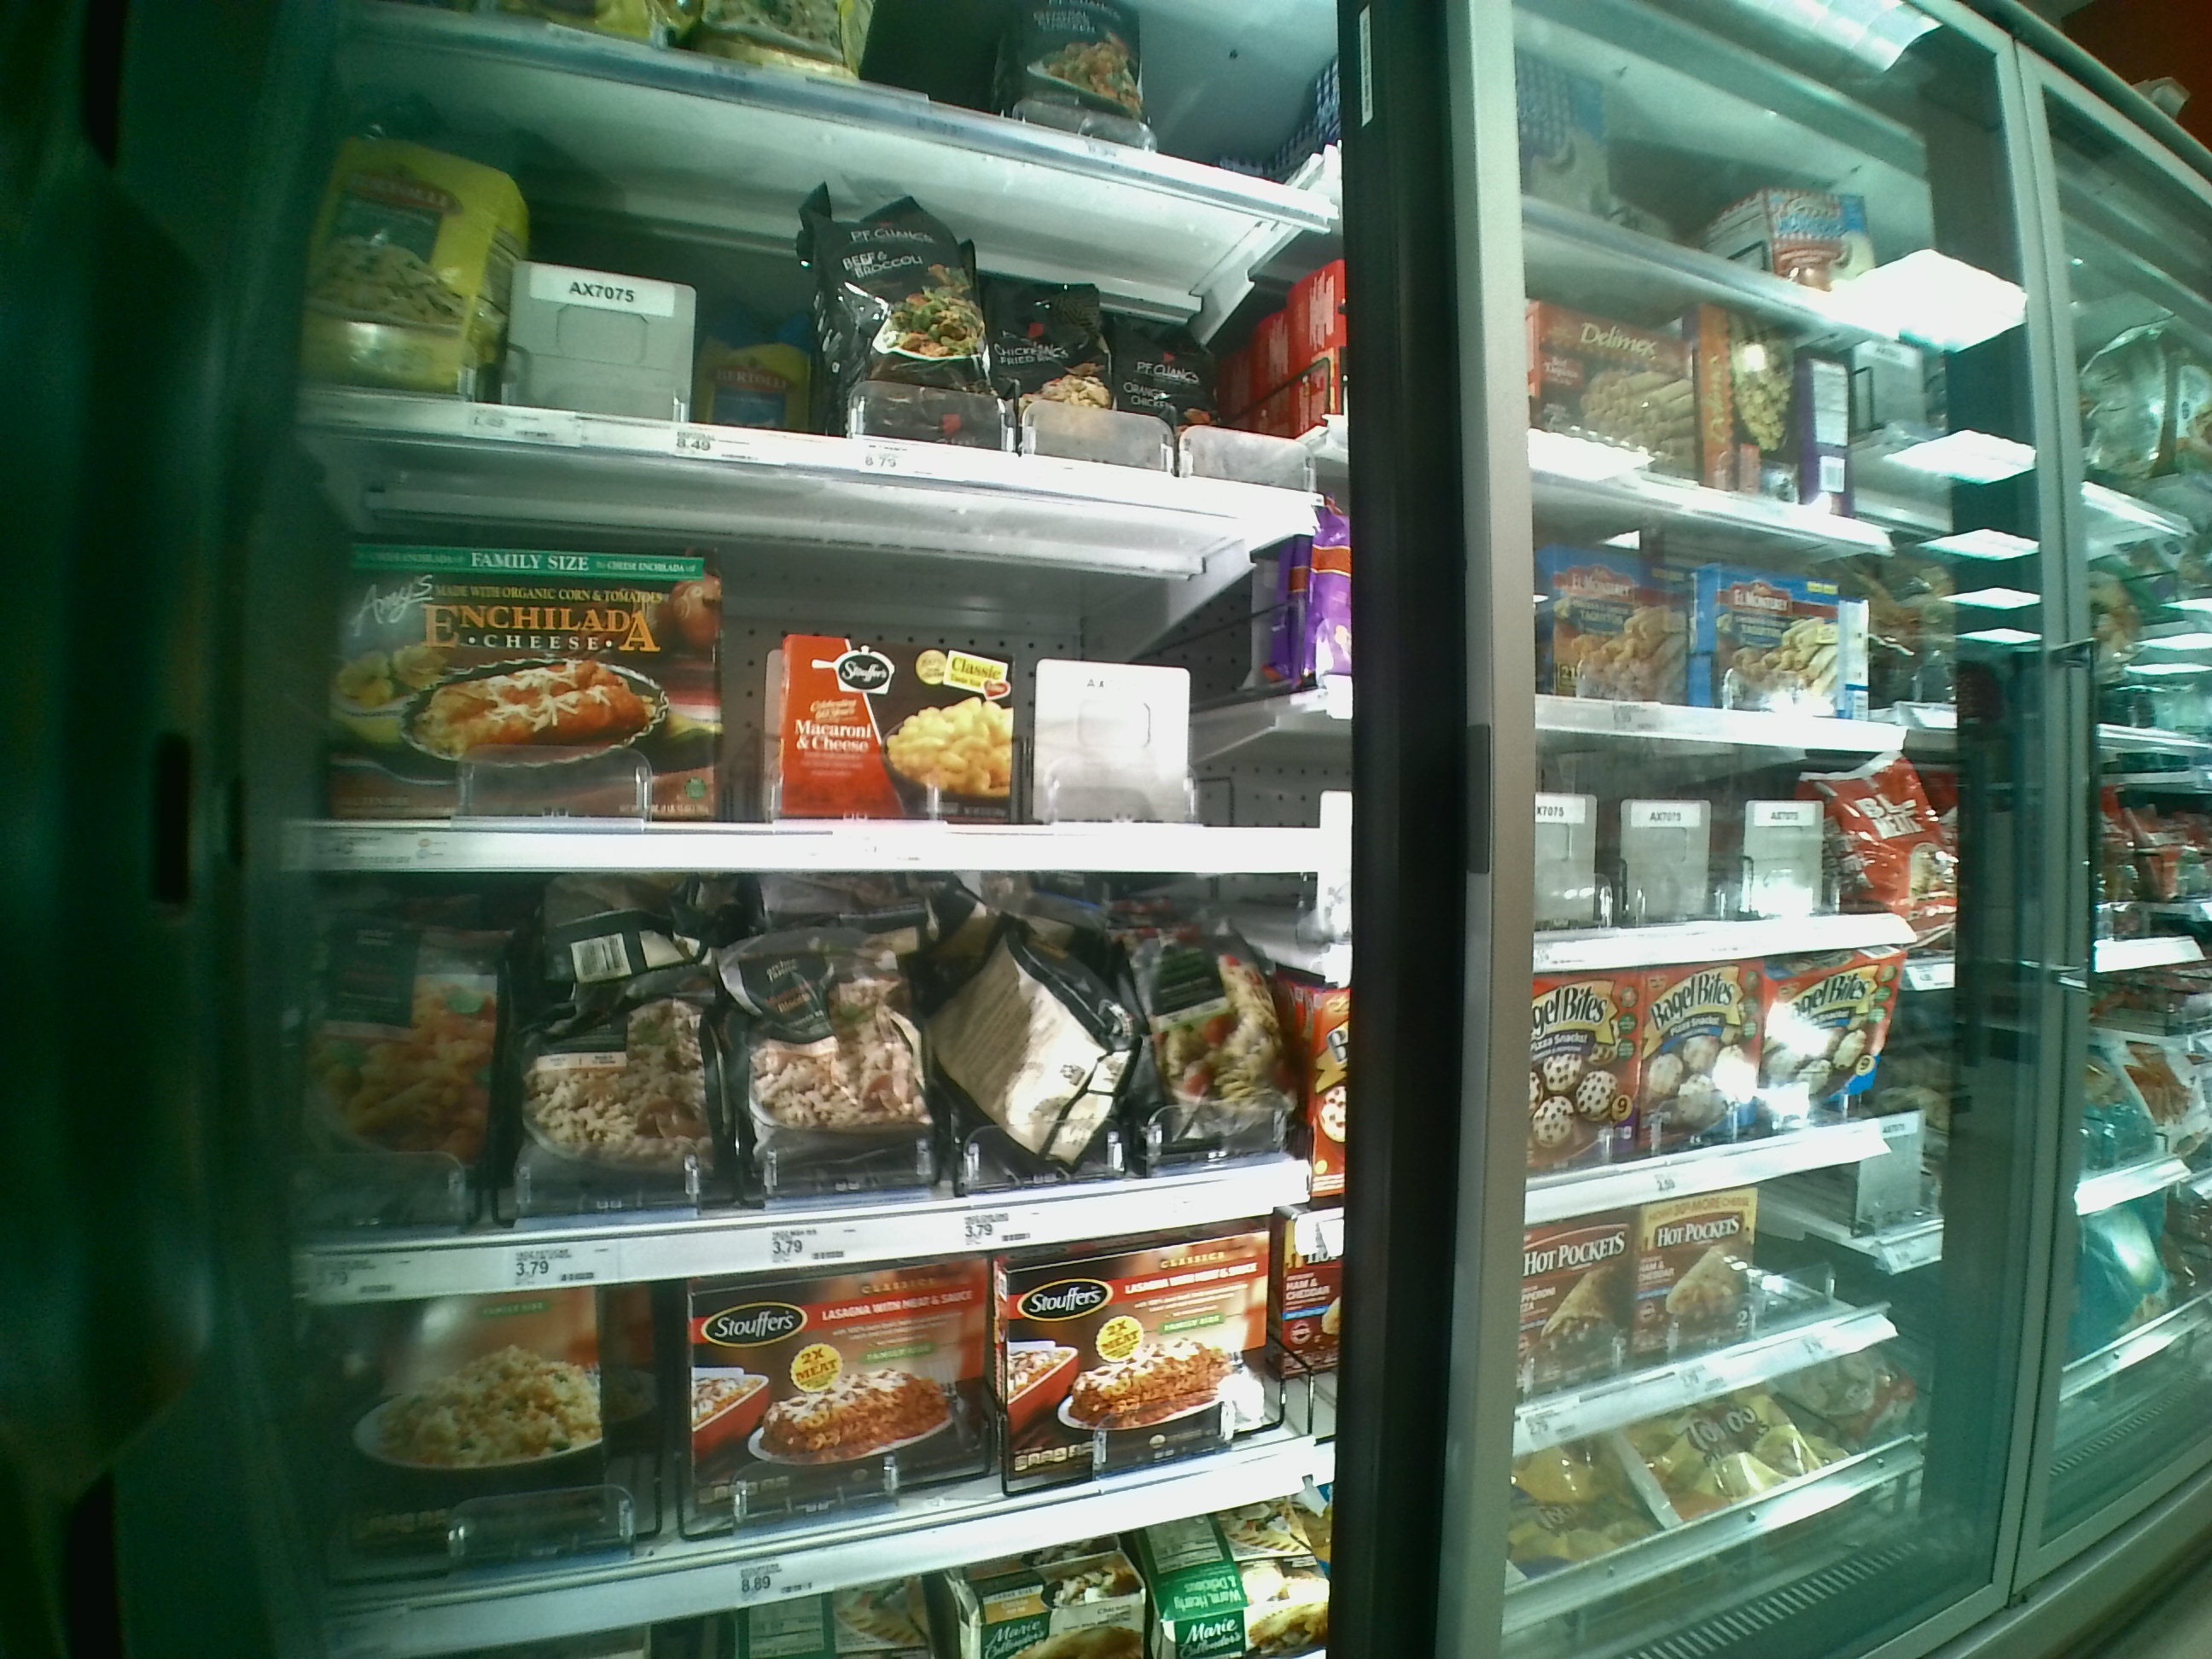shelf: (287, 871, 1343, 1260), (298, 486, 1332, 877), (303, 1244, 1360, 1588), (319, 143, 1320, 481)
